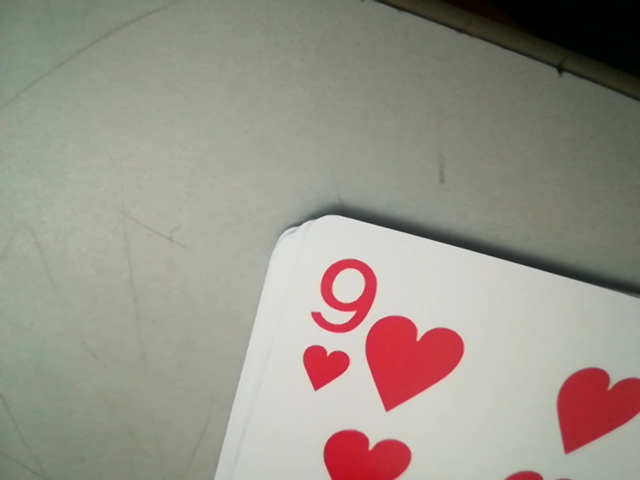hx 9: (298, 258, 378, 393)
